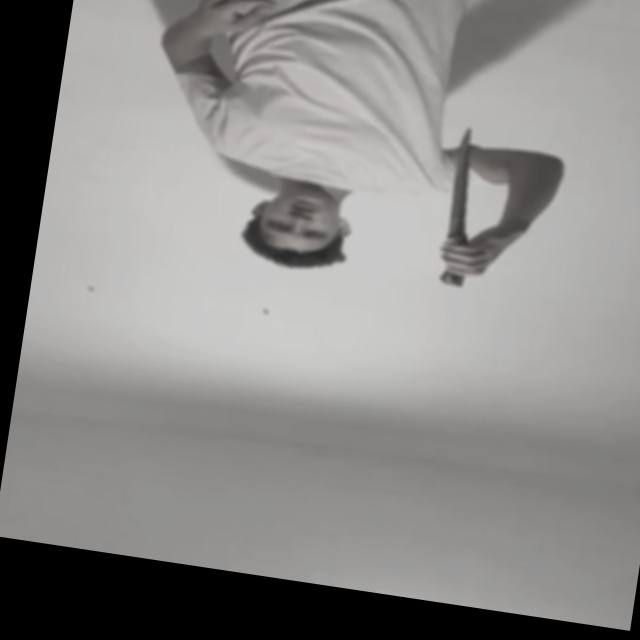Sharp-Object: (441, 126, 482, 240)
